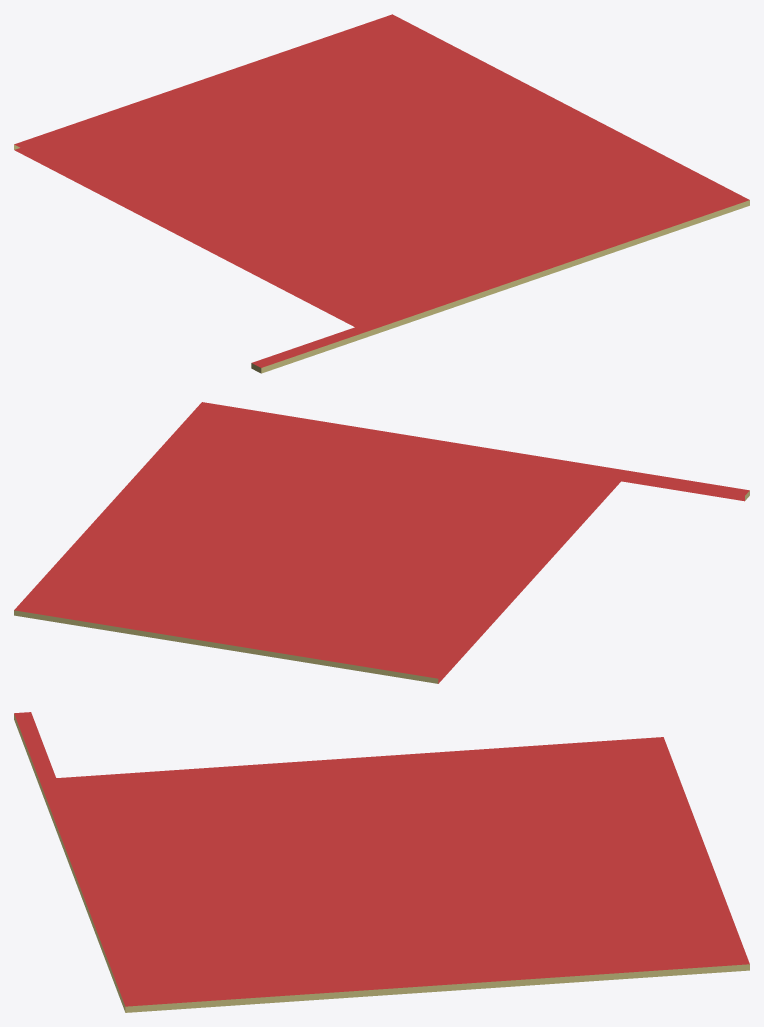
The picture shows the model from 3 angles, top to bottom: view 1: azimuth 30°, elevation 25°; view 2: azimuth 150°, elevation 25°; view 3: azimuth 270°, elevation 25°; orthographic projection. The views are drawn at different scales.
Size of the model in its own units: 10.04 by 10.6 by 0.1.
